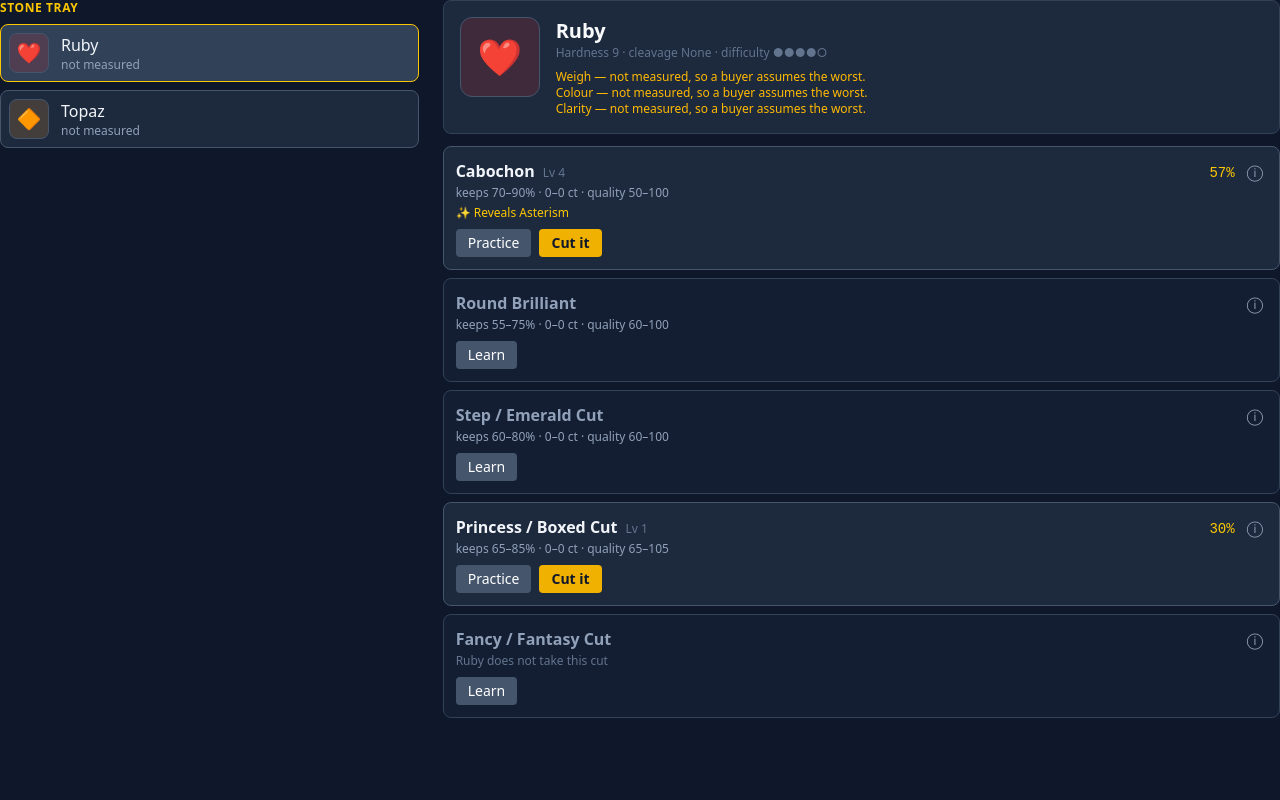
Test case: Cut › opens a technique guide and closes it again
Step 1. Click the button named "About Cabochon" → (1255, 171), box [1243,159,1267,183]
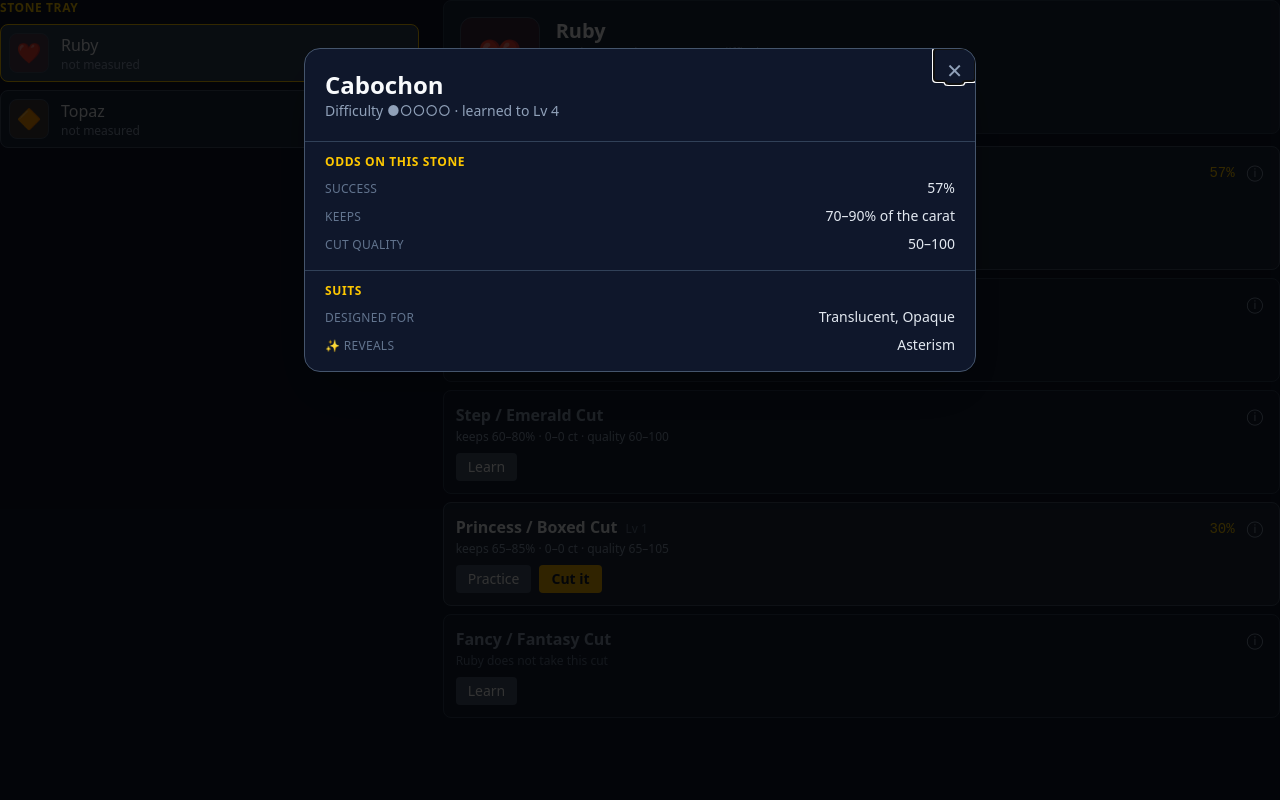
Check: the dialog is shown, box [304,48,976,372]
Step 2. Click the button named "close entry" → (955, 65), box [934,49,975,81]
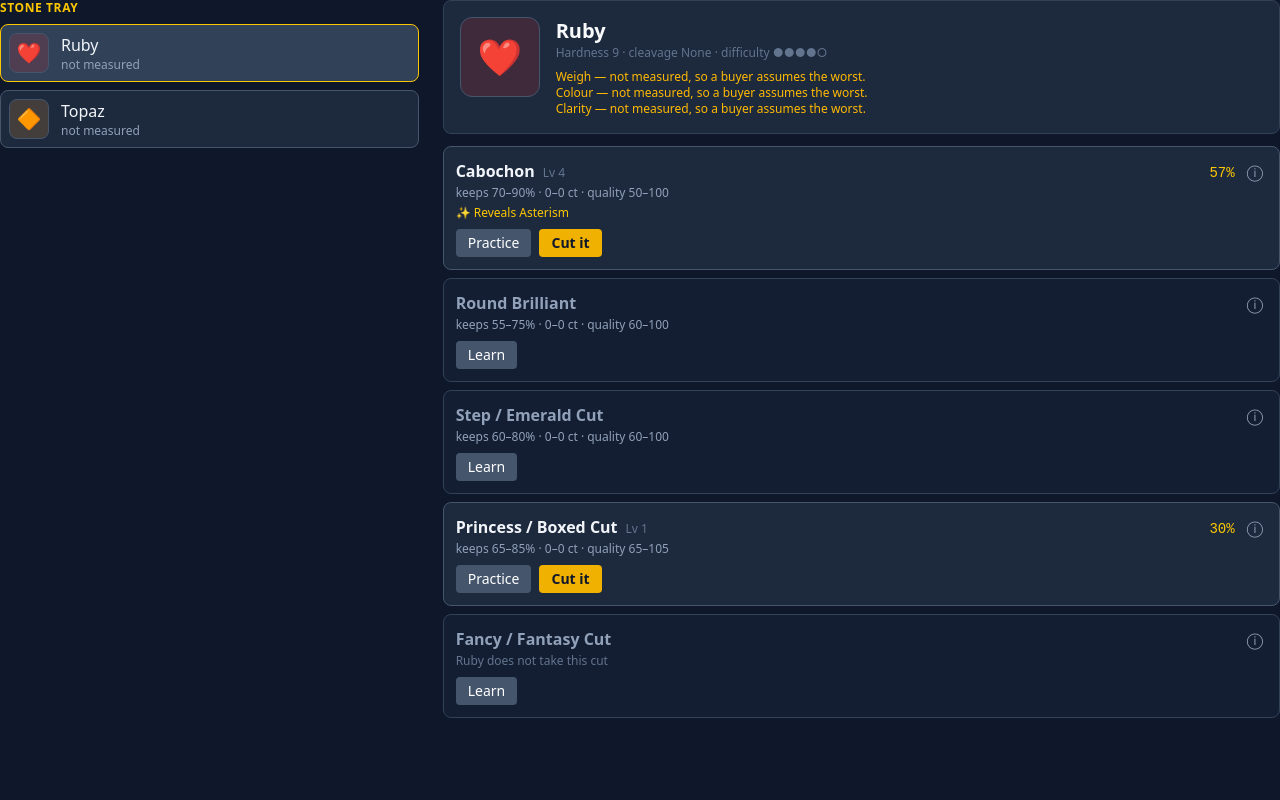
Check: the dialog is gone
